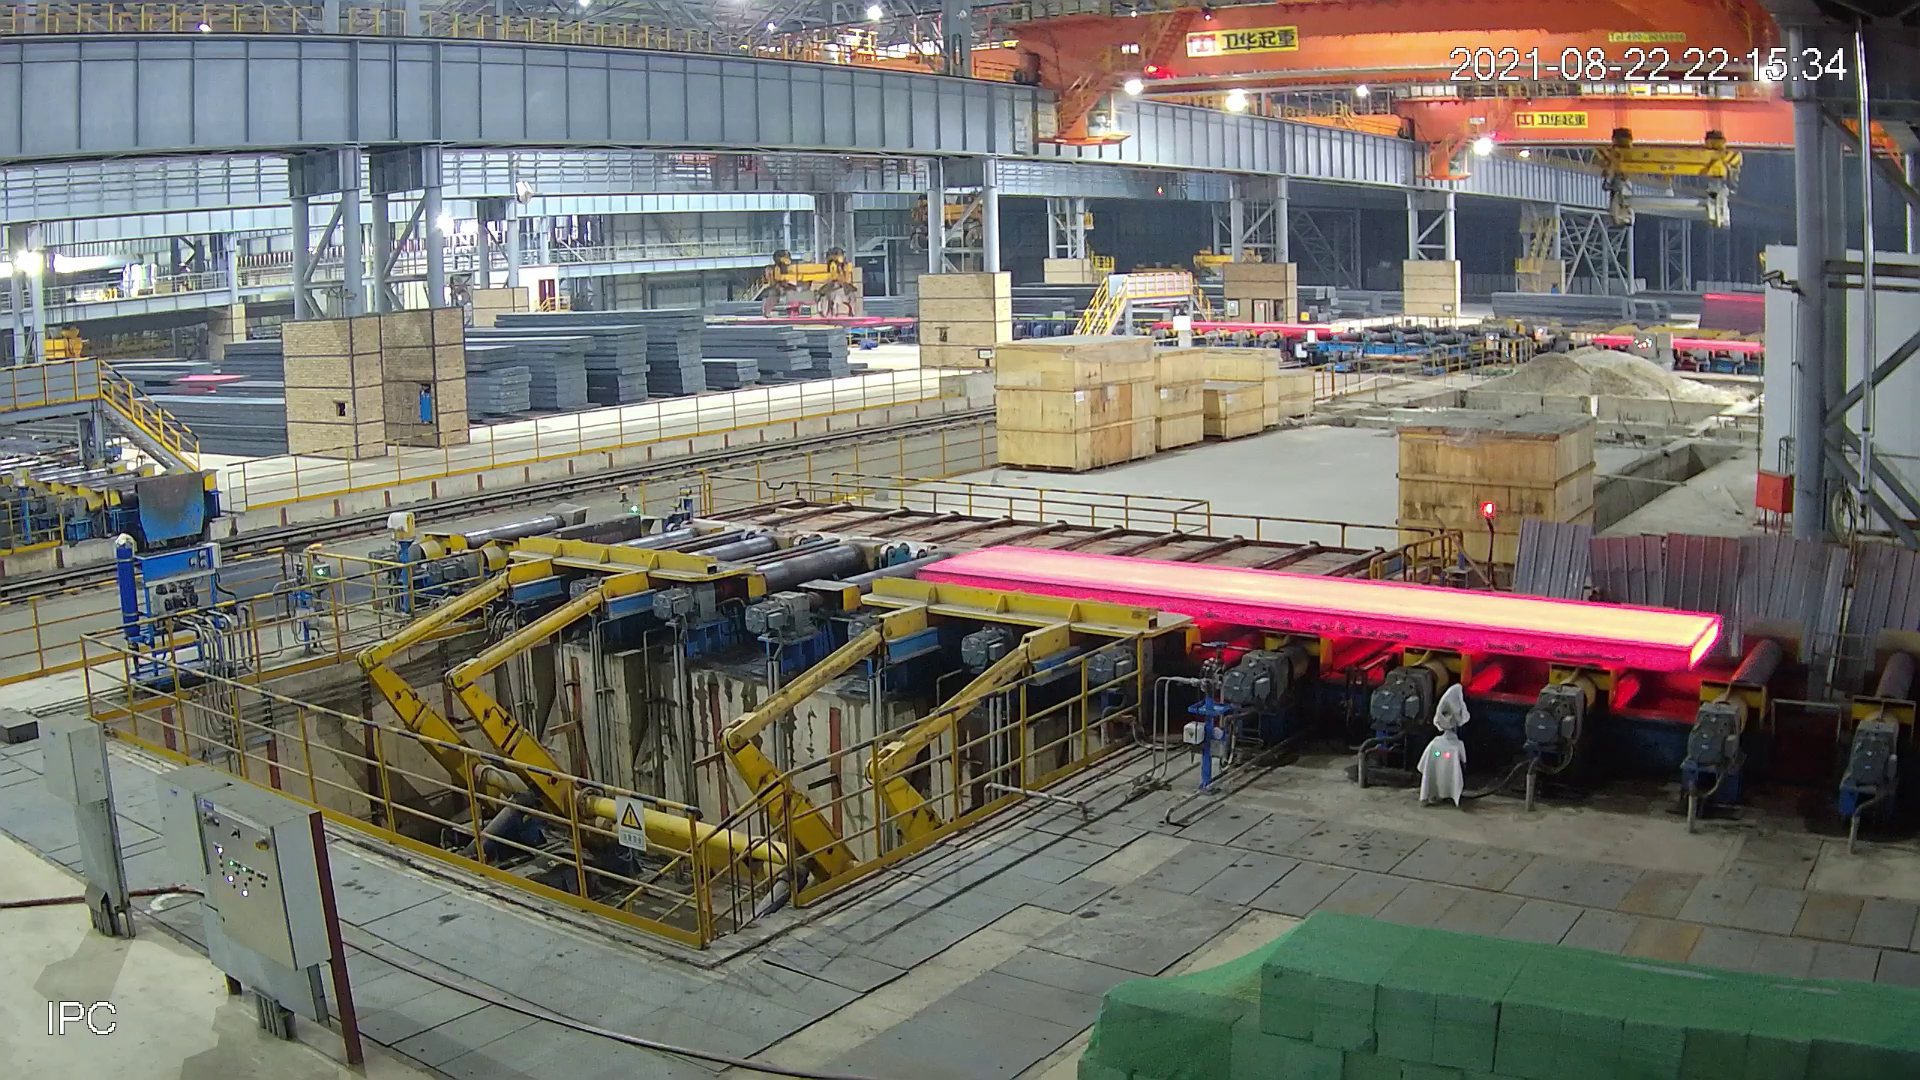slab: (915, 543, 1724, 671)
